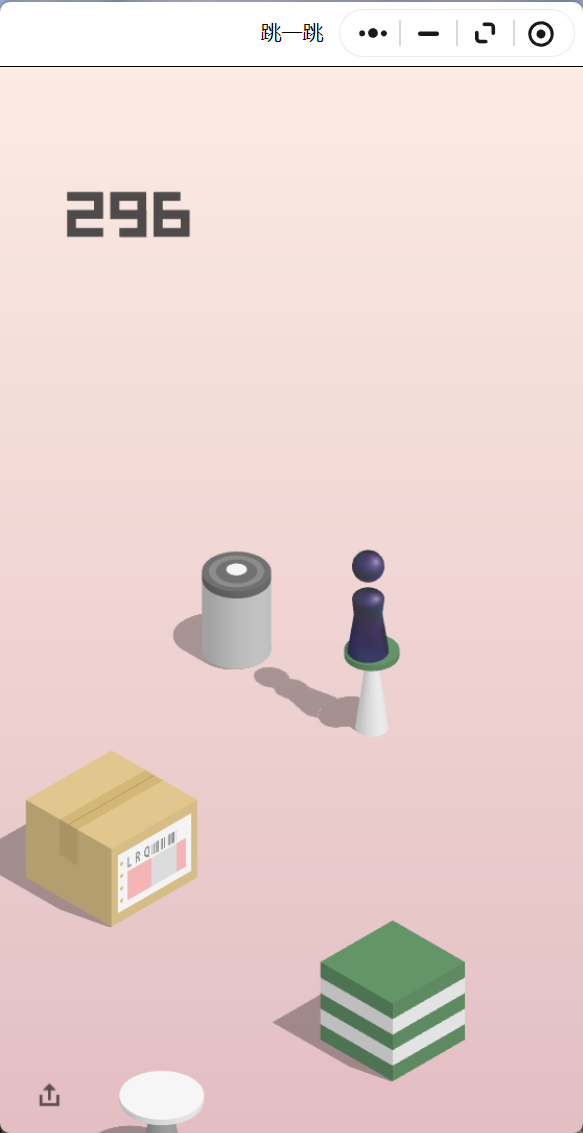piece: (352, 551, 383, 658)
target: (202, 551, 272, 590)
